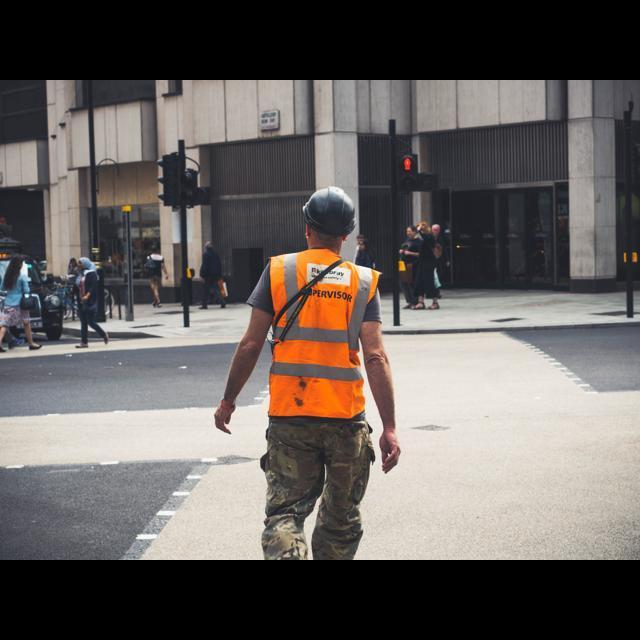Capacete: (303, 186, 354, 236)
Colete: (269, 262, 379, 419)
